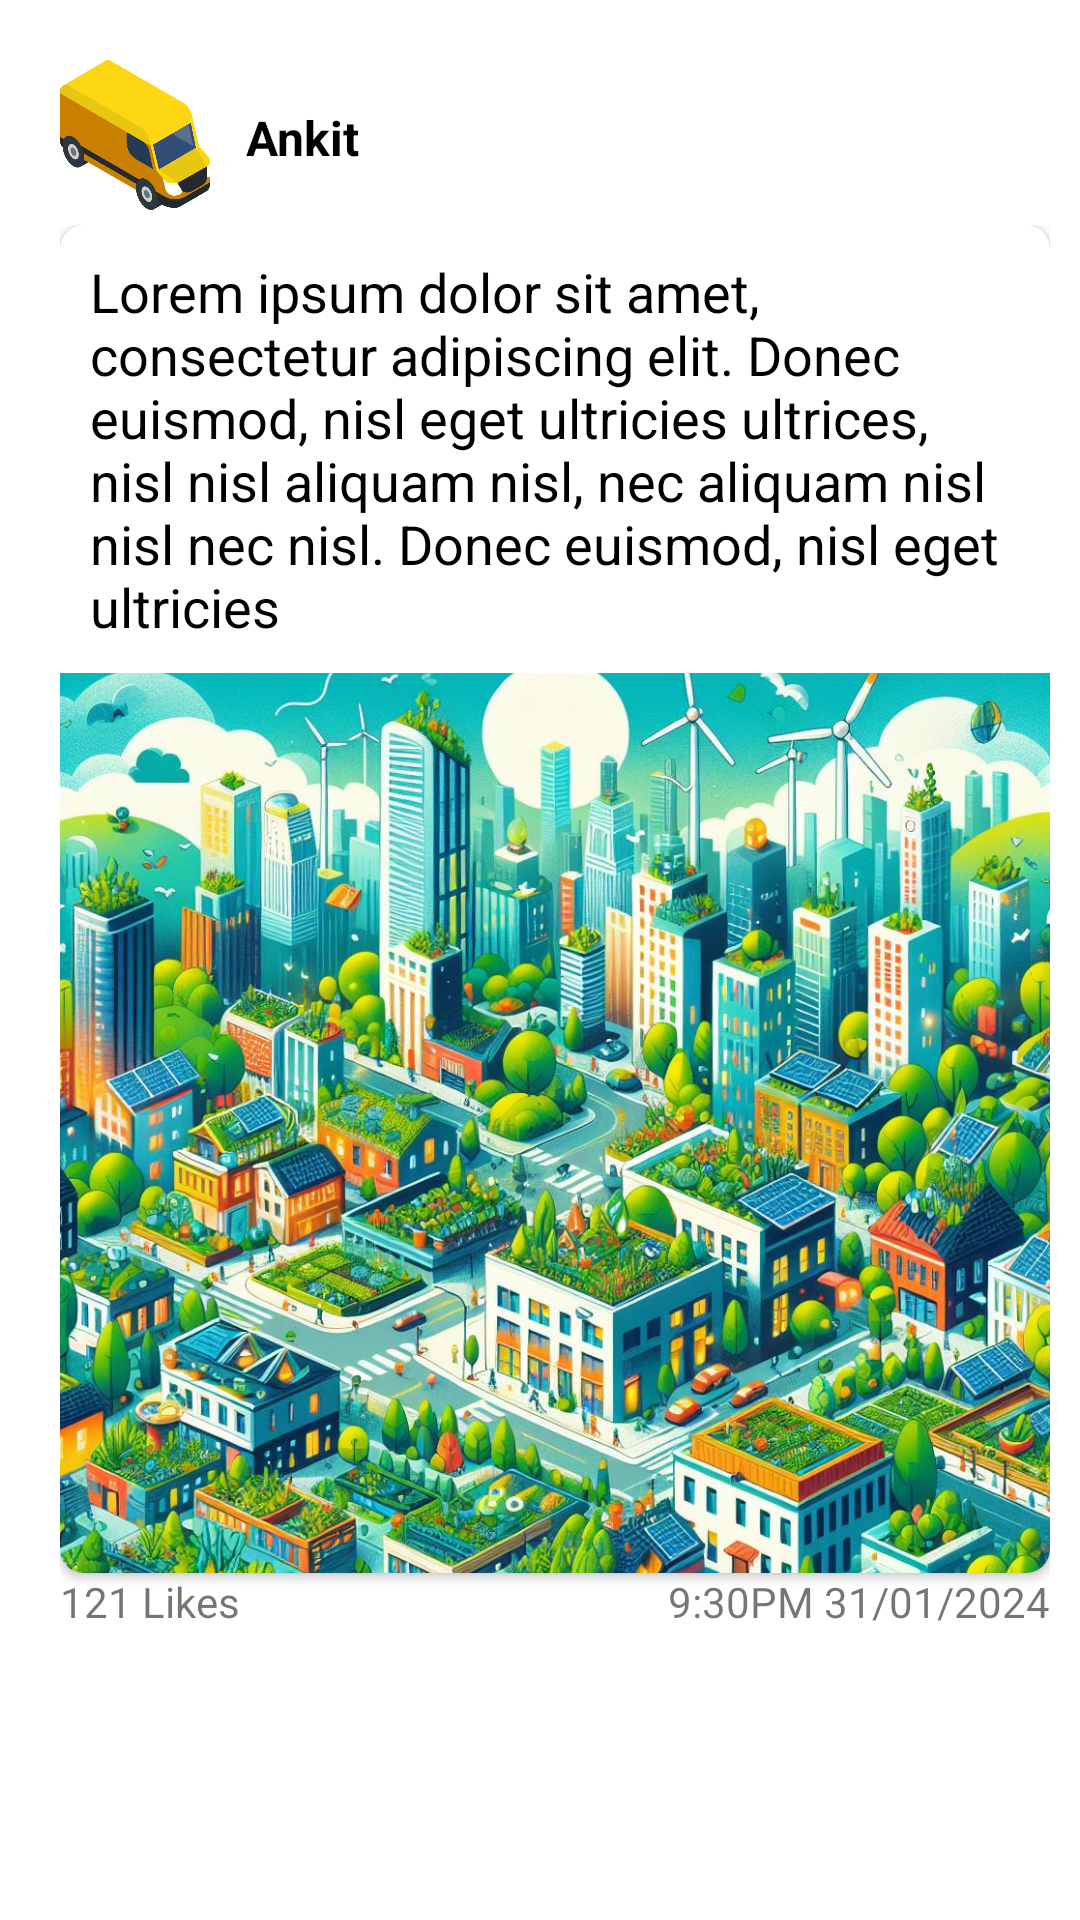

Locate icon controls on the screen. Image size 1080×1920, boxes as region(x1, y1, x2, y2).
van: region(60, 60, 210, 210)
